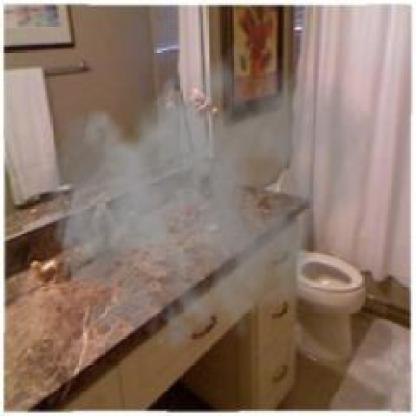Smoke: (38, 26, 376, 364)
